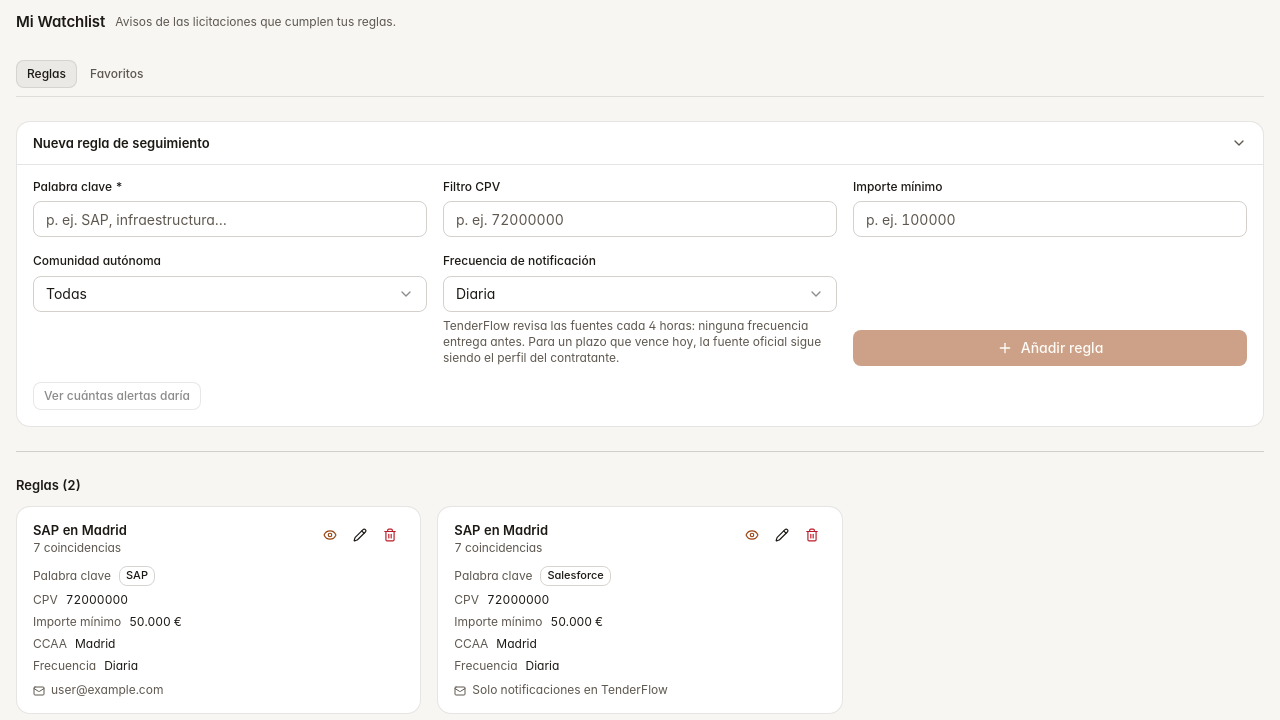
Test: MiWatchlistPage — edición de reglas › "Probar regla" shows the match count without saving
Click the 1st button named "Editar regla" at (360, 535), box [346, 521, 374, 549]
(page scrolled)
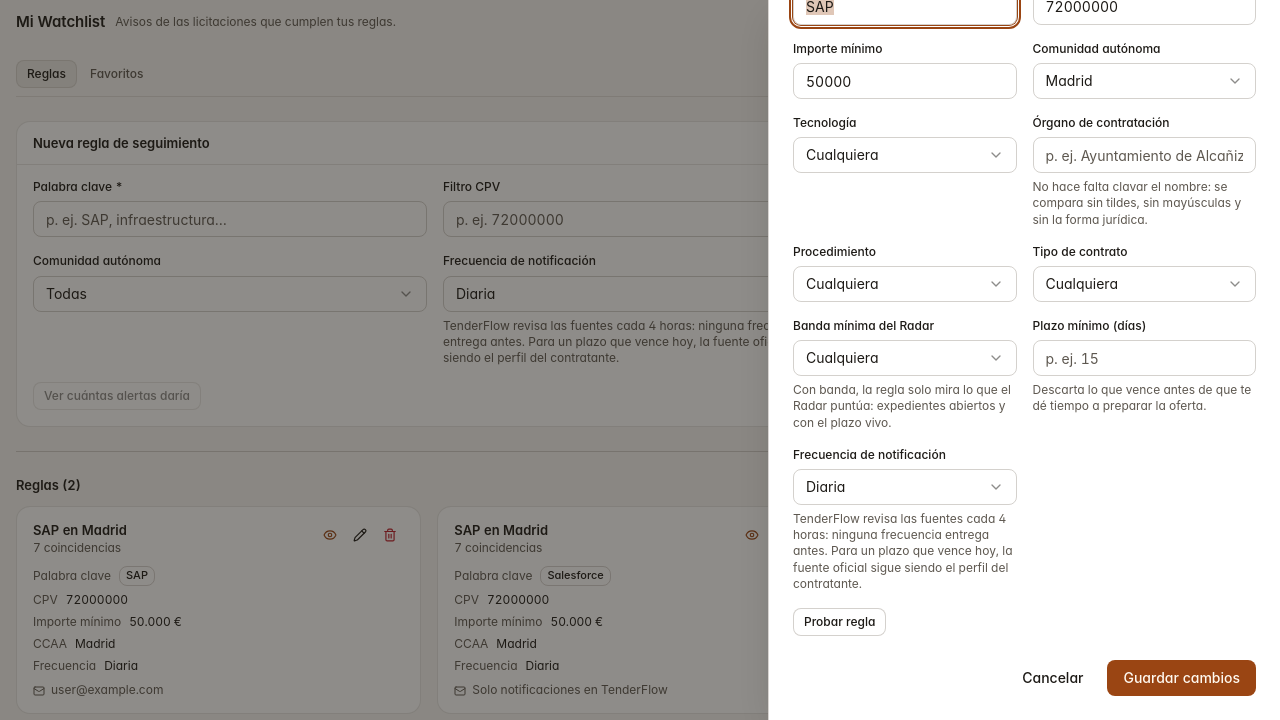
Click the button "Probar regla" at (840, 622), box [793, 608, 886, 636]
(page scrolled)
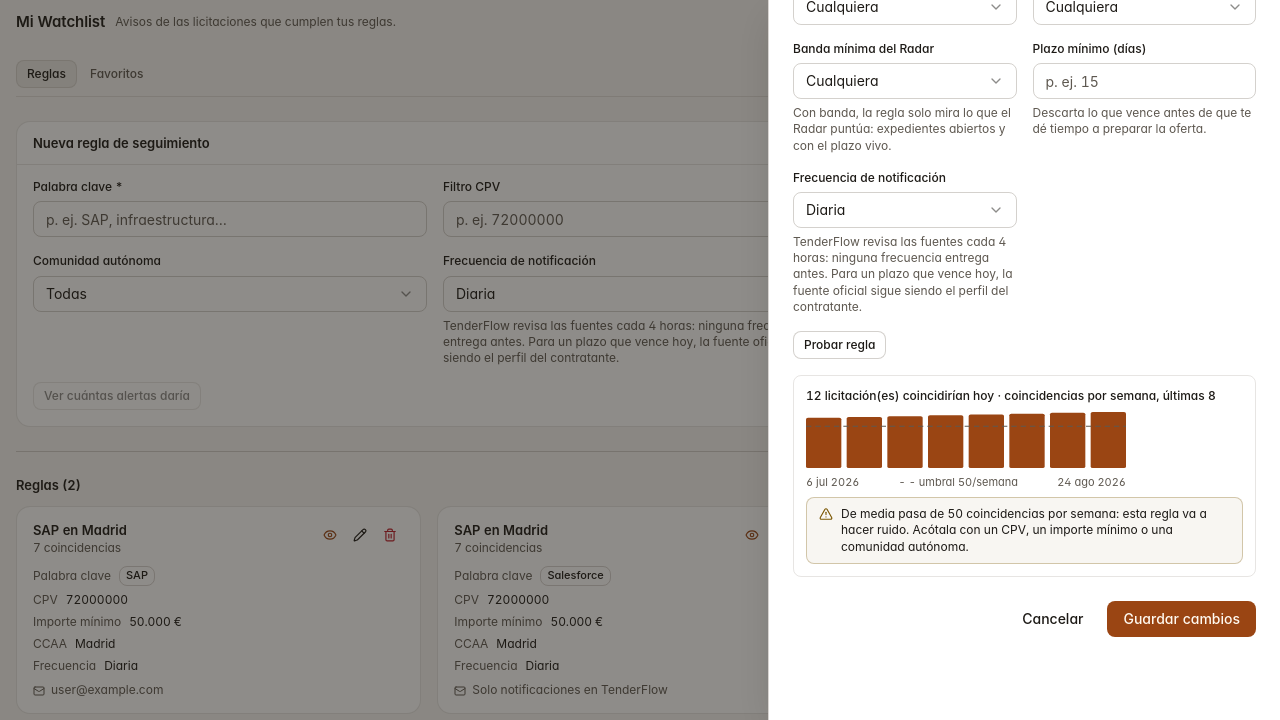
Result: the text "12 licitación(es) coincidirían hoy" is shown at [806, 388, 1243, 404]
Result: the number of rows is 10
Result: the message shows "esta regla va a hacer ruido" at [841, 506, 1207, 554]
